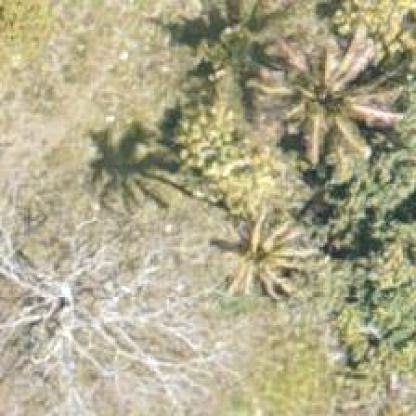coconut tree: (255, 24, 413, 166), (224, 208, 318, 300)
